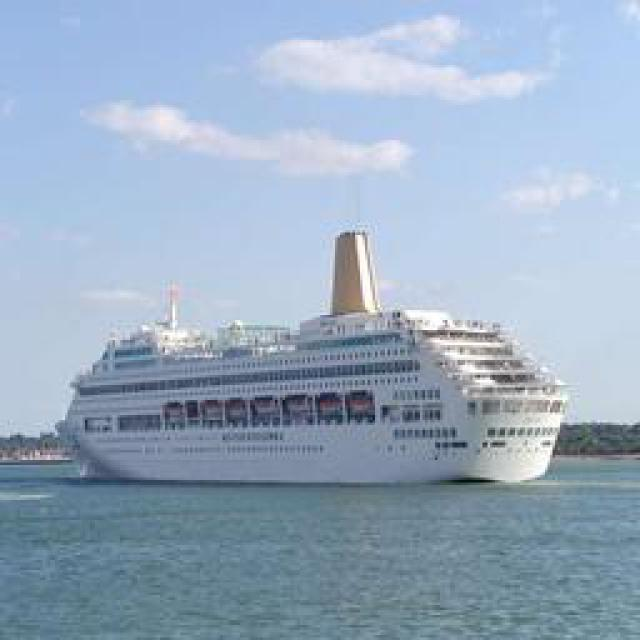Ship: (67, 231, 560, 489)
